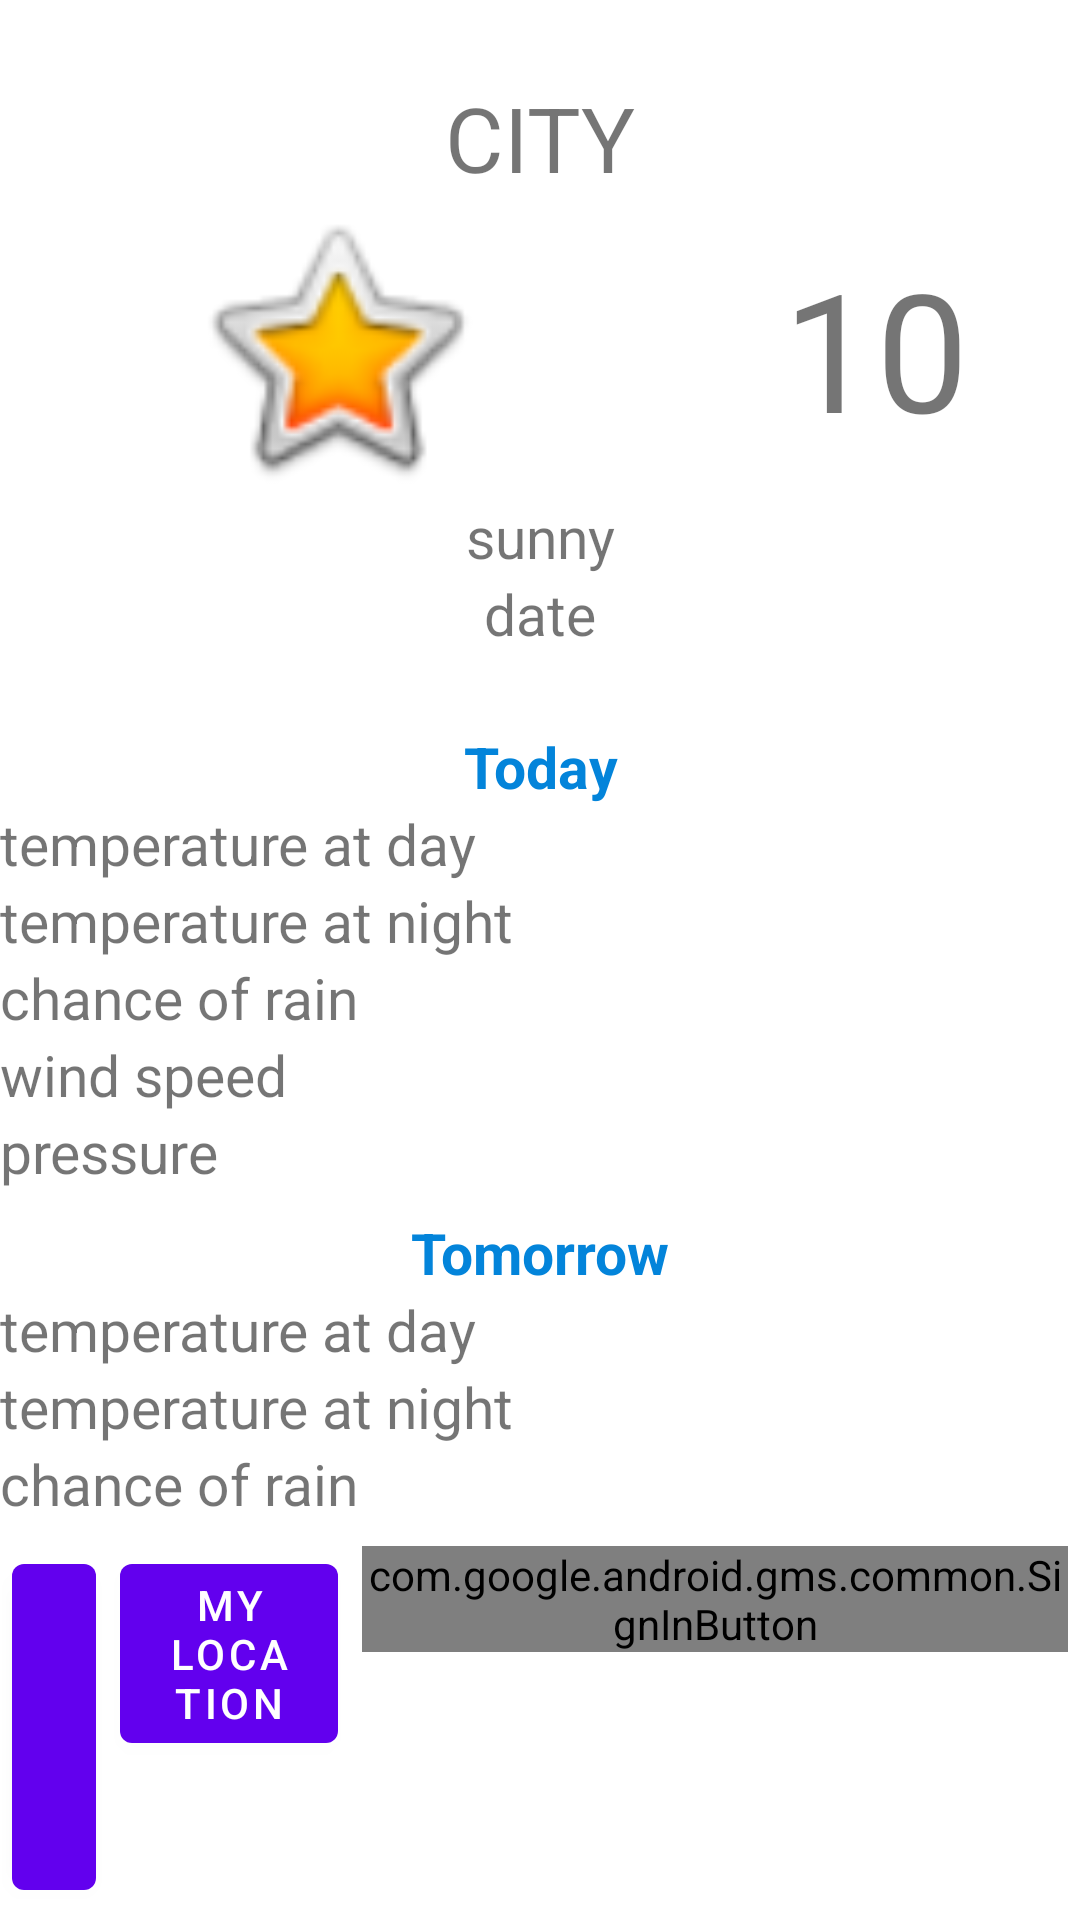

Locate icon controls on the screen. Image size 1080x1920, boxes as box=[x1, y1, x2, y2].
star on: box=[213, 228, 464, 473]
